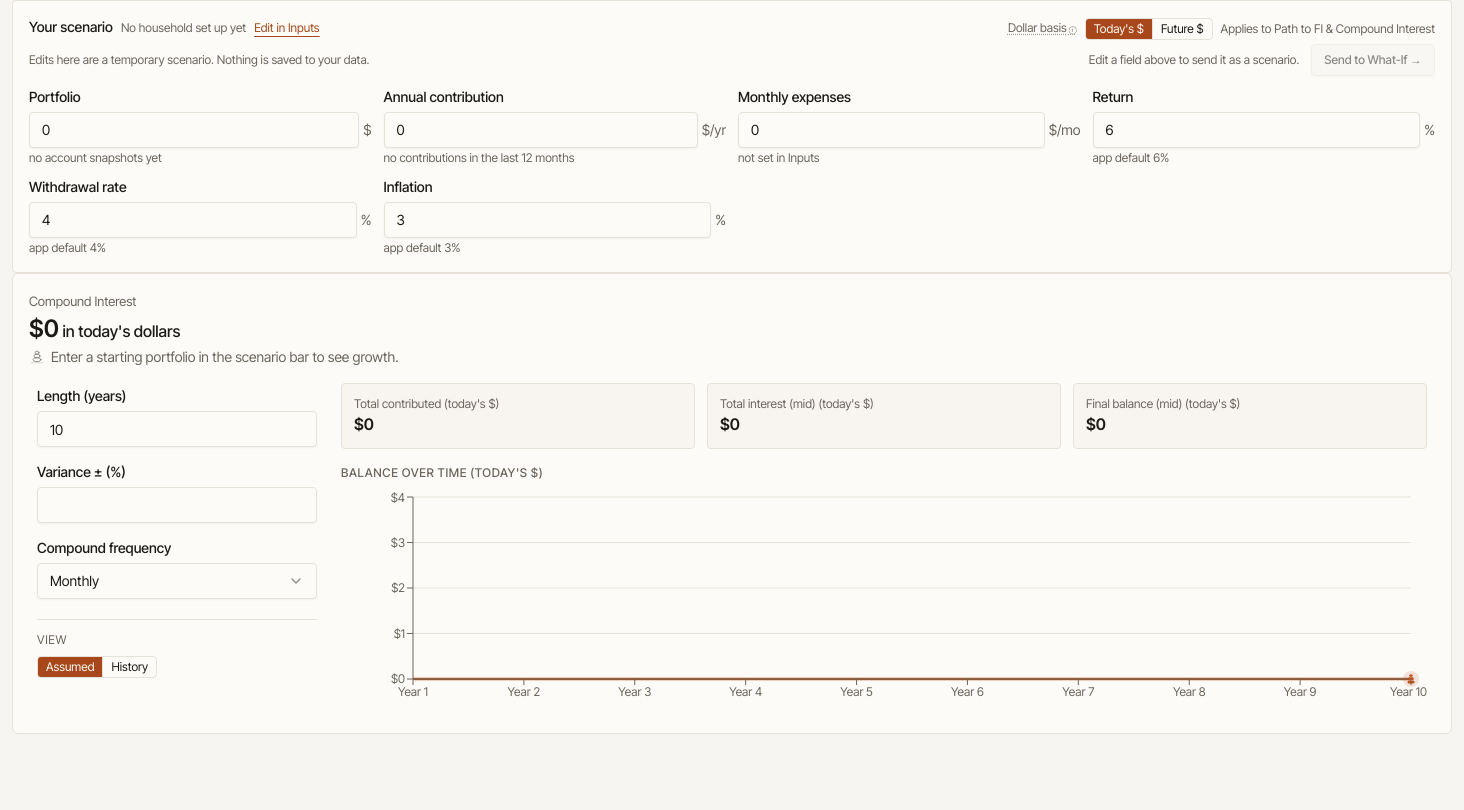
Test: CompoundInterestCard › annual compounding @ 7% input yields ~1.07^N * PV (APY semantics, no compounding amplification)
Replace the text in the number field labelled "Portfolio" with "1000" at (194, 130), box [29, 112, 359, 148]
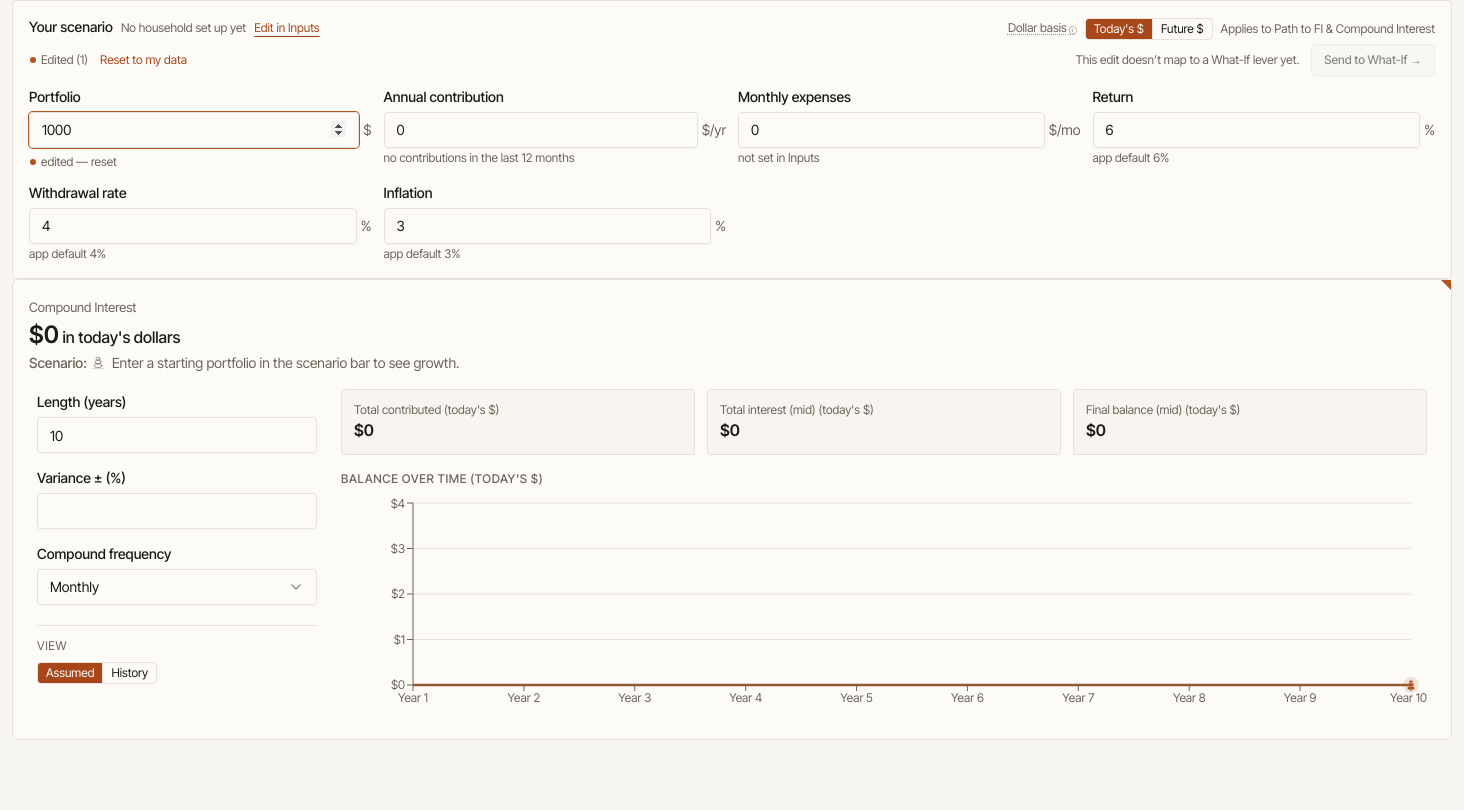
Replace the text in the number field labelled "Return" with "7" at (1256, 130), box [1092, 112, 1420, 148]
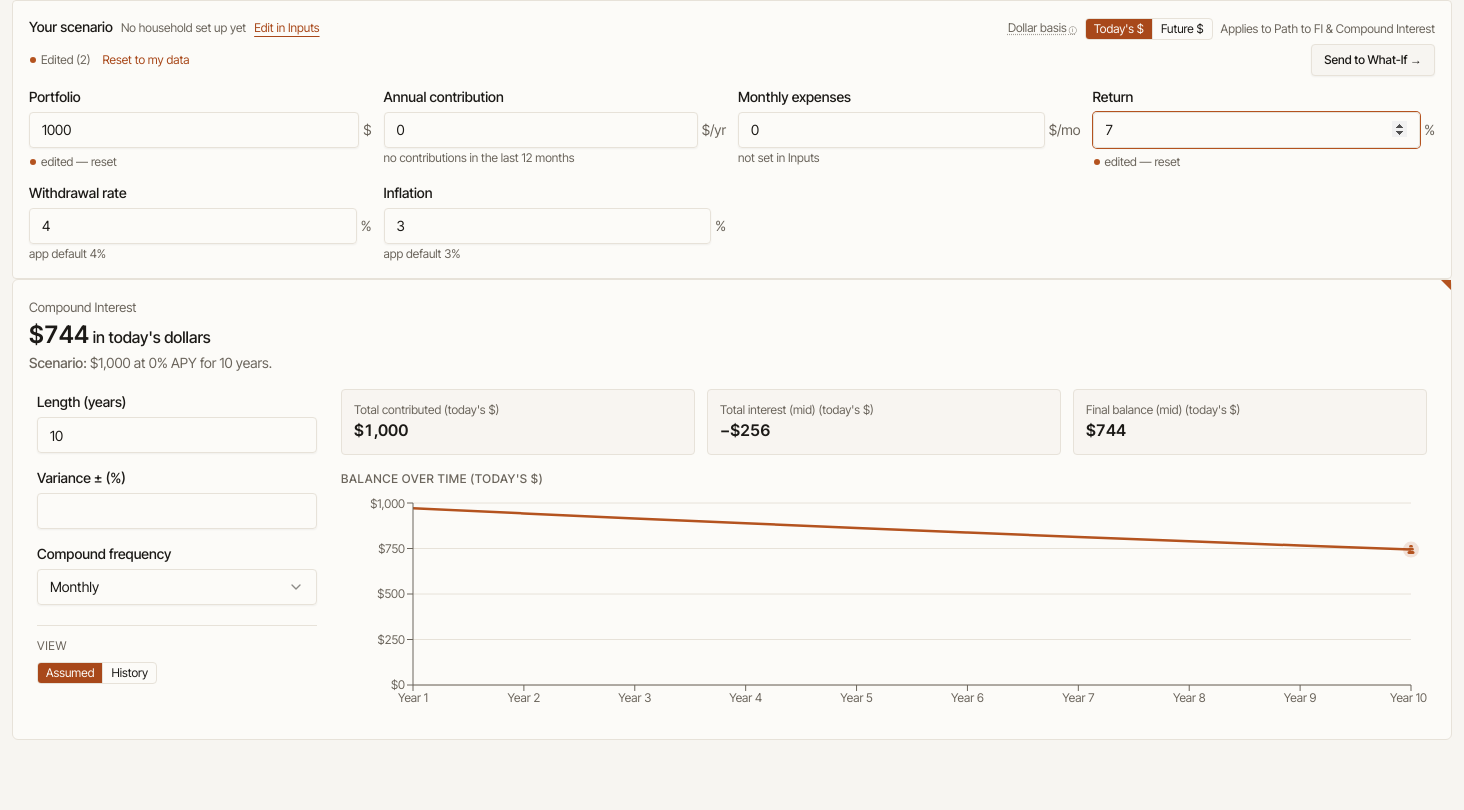
Click the dropdown named "compound frequency" at (75, 586), box [37, 569, 317, 605]
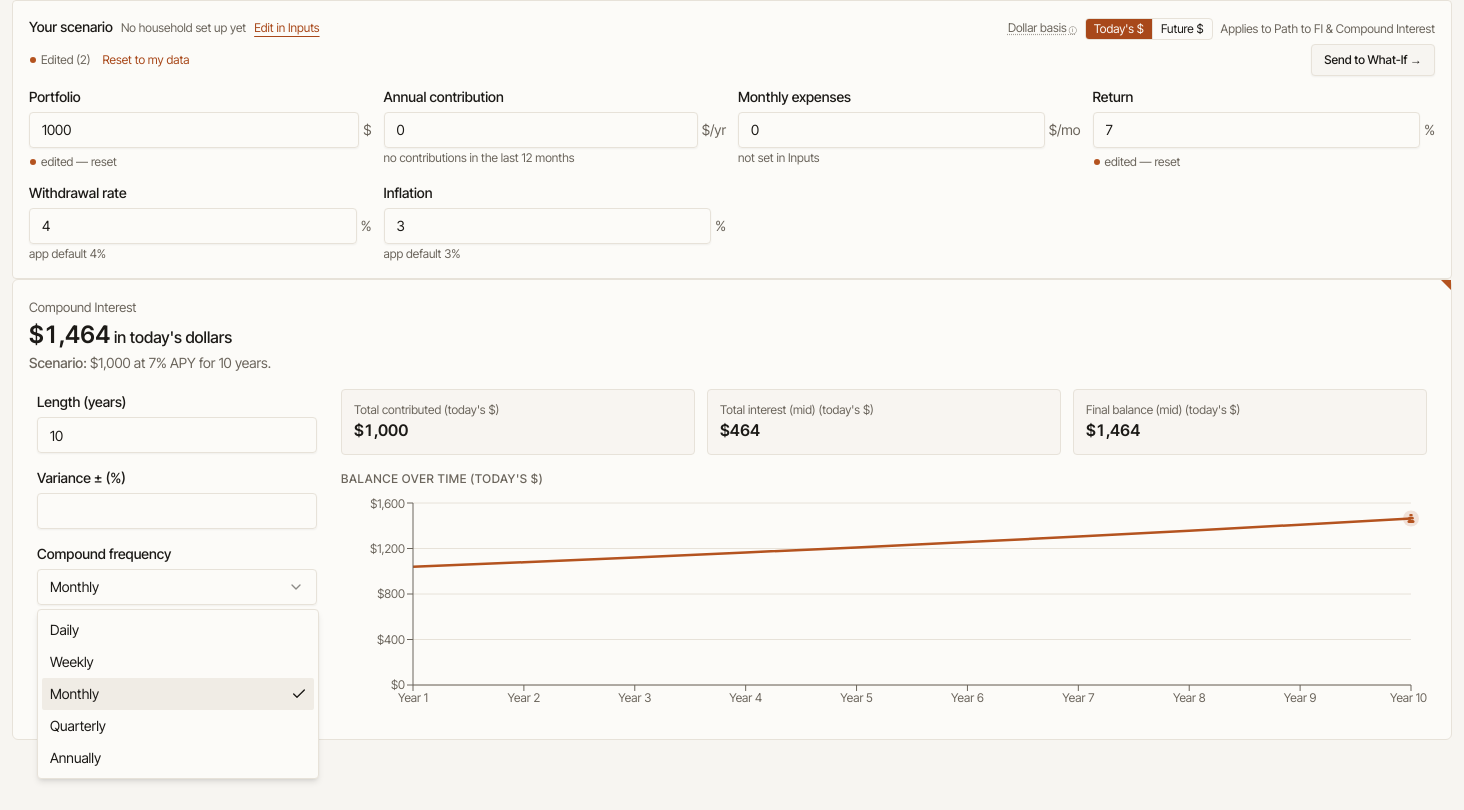
Click the option "Annually" at (76, 758), box [50, 749, 101, 766]
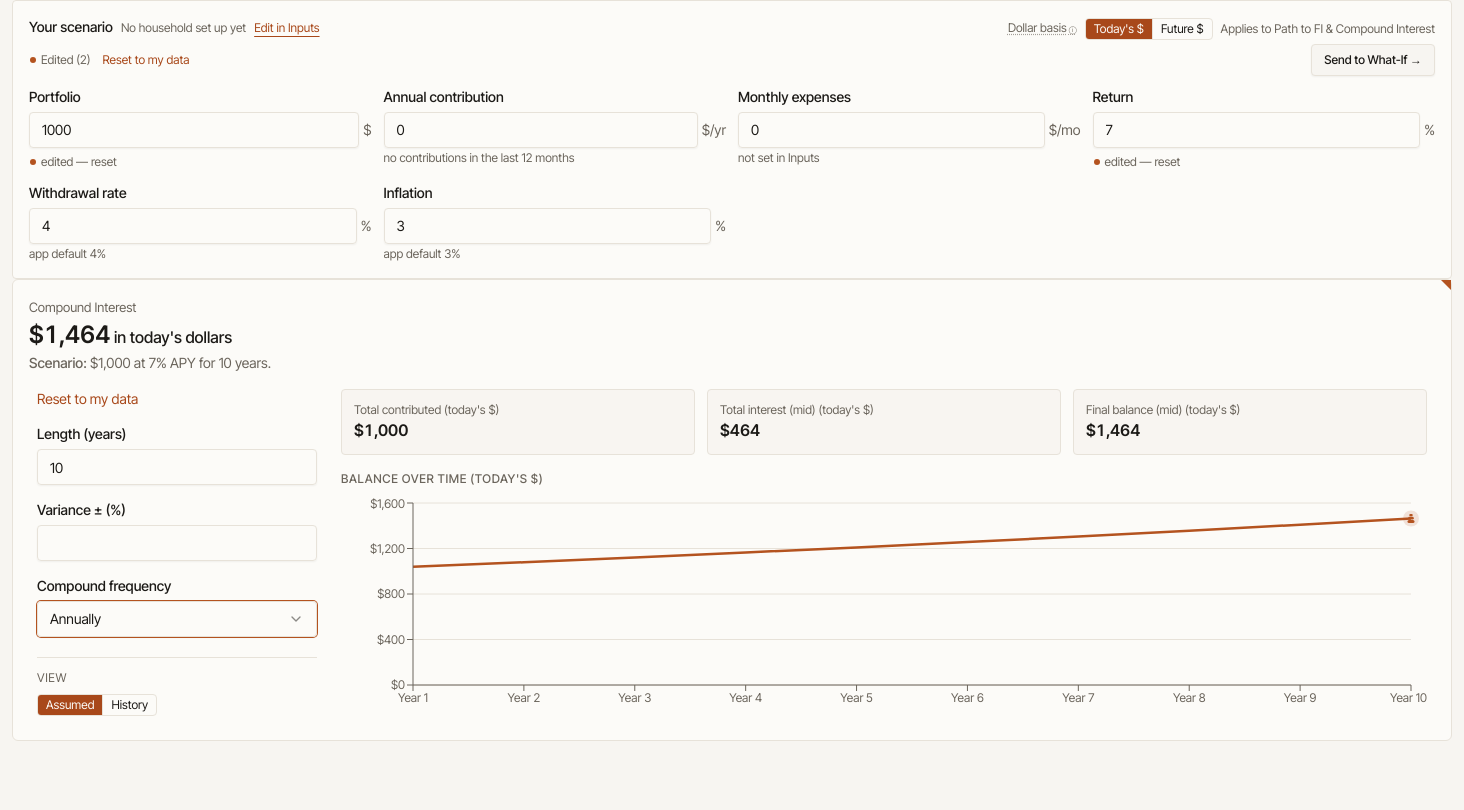
Click the button "Future $" at (1182, 28), box [1152, 18, 1212, 38]
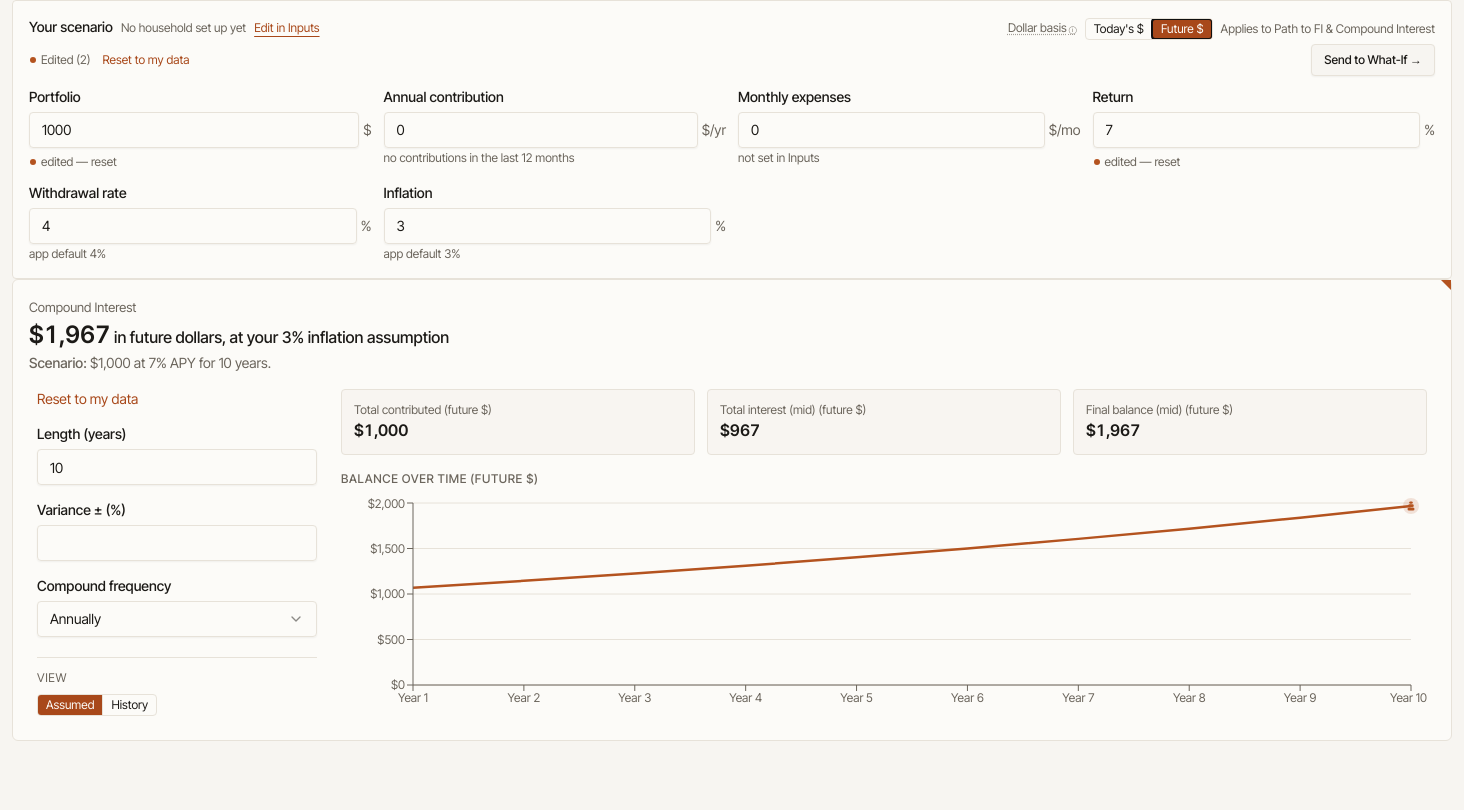
Expected: the element with test id "compound-headline" reads "$1,967 in future dollars, at your 3% inflation assumption", [29, 320, 110, 349]
